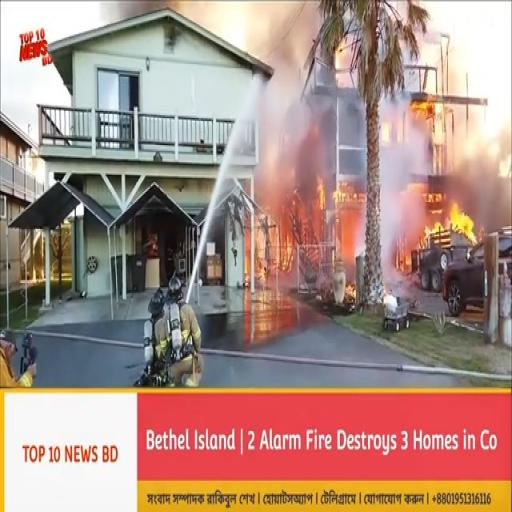fire: (447, 207, 476, 247)
